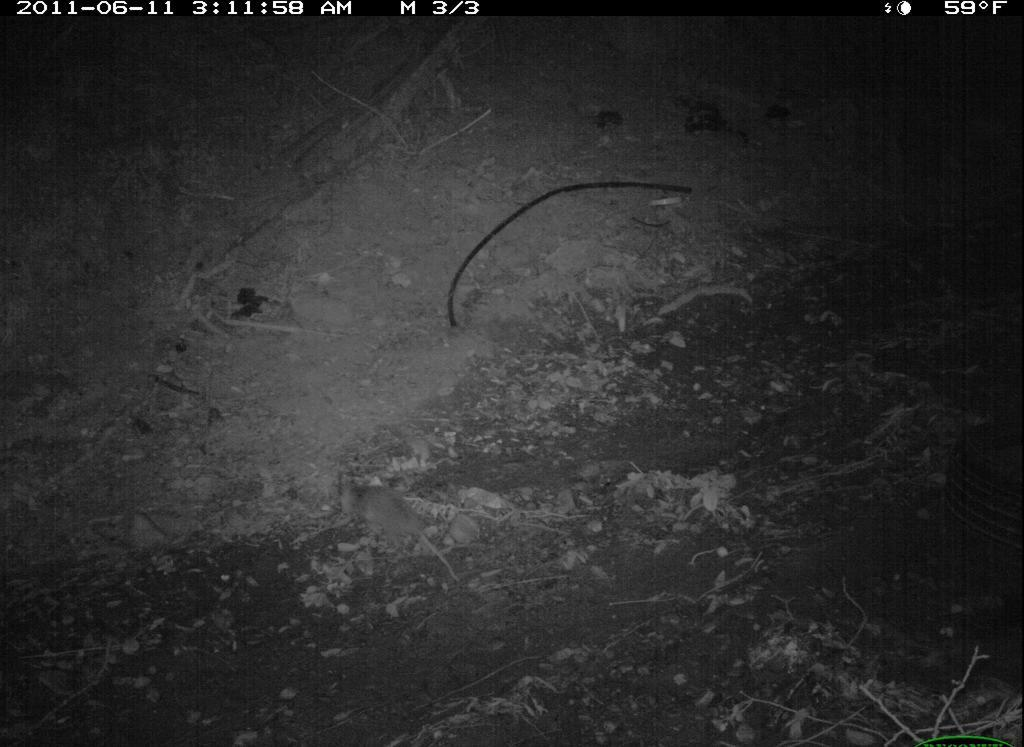opossum: (335, 472, 472, 598)
